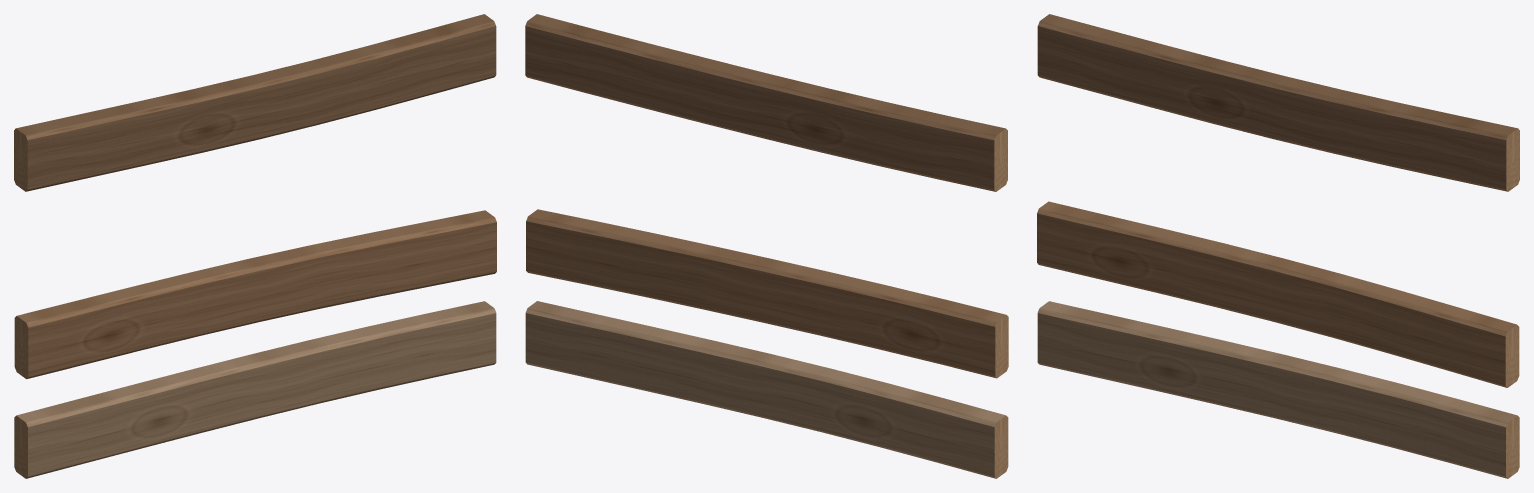
File: fence_slats_03.glb
The picture shows the model from 3 angles, left to right: view 1: azimuth 30°, elevation 25°; view 2: azimuth 150°, elevation 25°; view 3: azimuth 330°, elevation 25°; orthographic projection.
Visible parts, largest first — view 1: TileDecorationFenceSlats03; view 2: TileDecorationFenceSlats03; view 3: TileDecorationFenceSlats03.
Boxes of the visible parts, x1=… form: TileDecorationFenceSlats03: x1=14, y1=14, x2=496, y2=478; TileDecorationFenceSlats03: x1=525, y1=14, x2=1008, y2=478; TileDecorationFenceSlats03: x1=1037, y1=14, x2=1519, y2=478.
Bounding box in the file's own units: 1 × 0.7 × 0.0534.
1 material, 1 textured.
